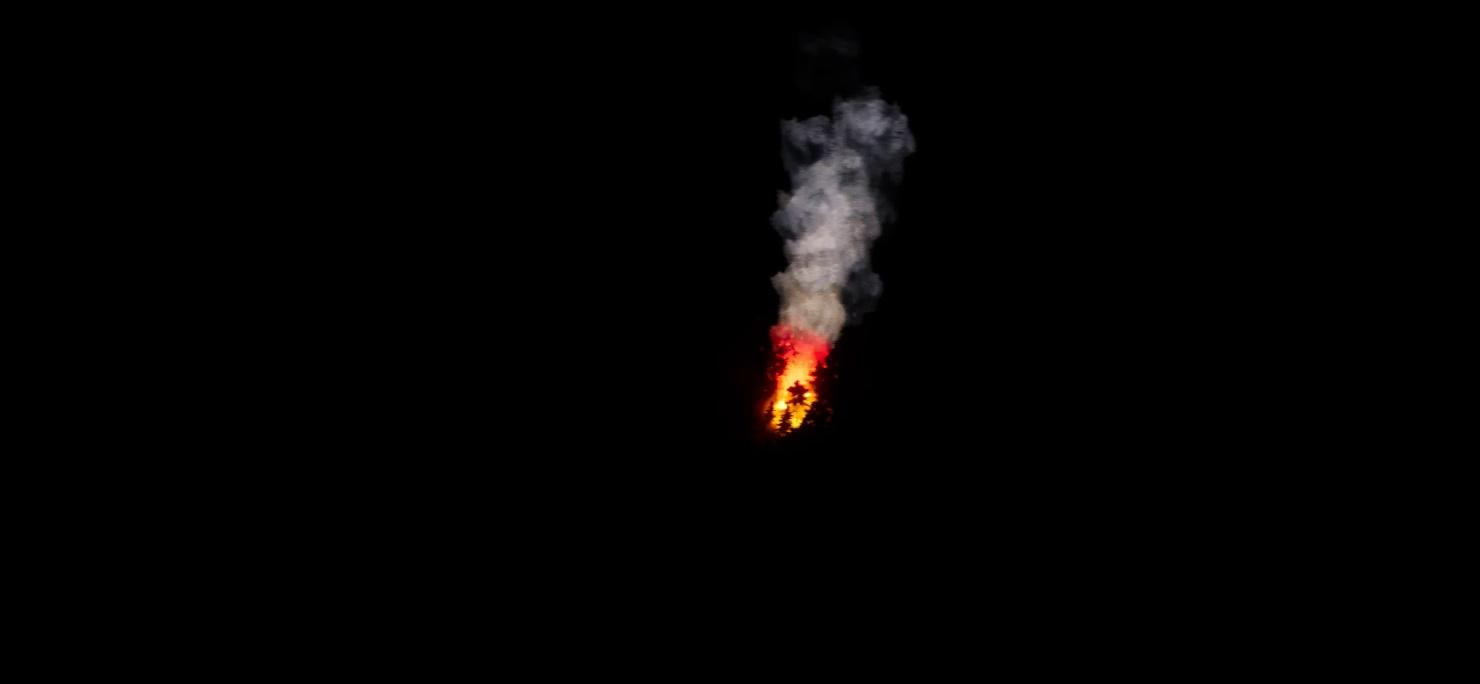fire: (762, 334, 836, 432)
smoke: (770, 86, 921, 332)
